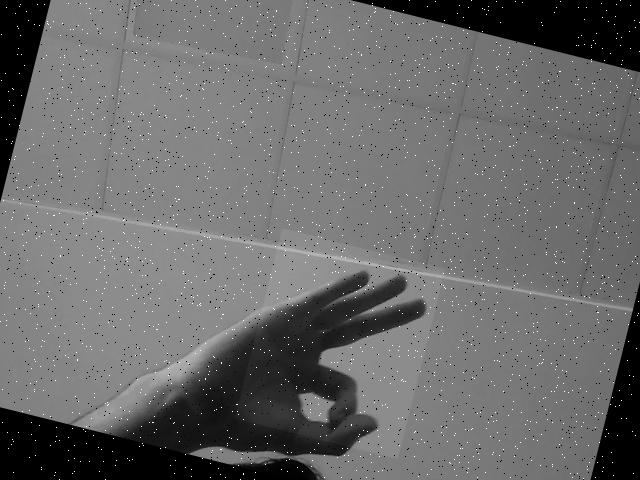OK: (235, 229, 444, 459)
